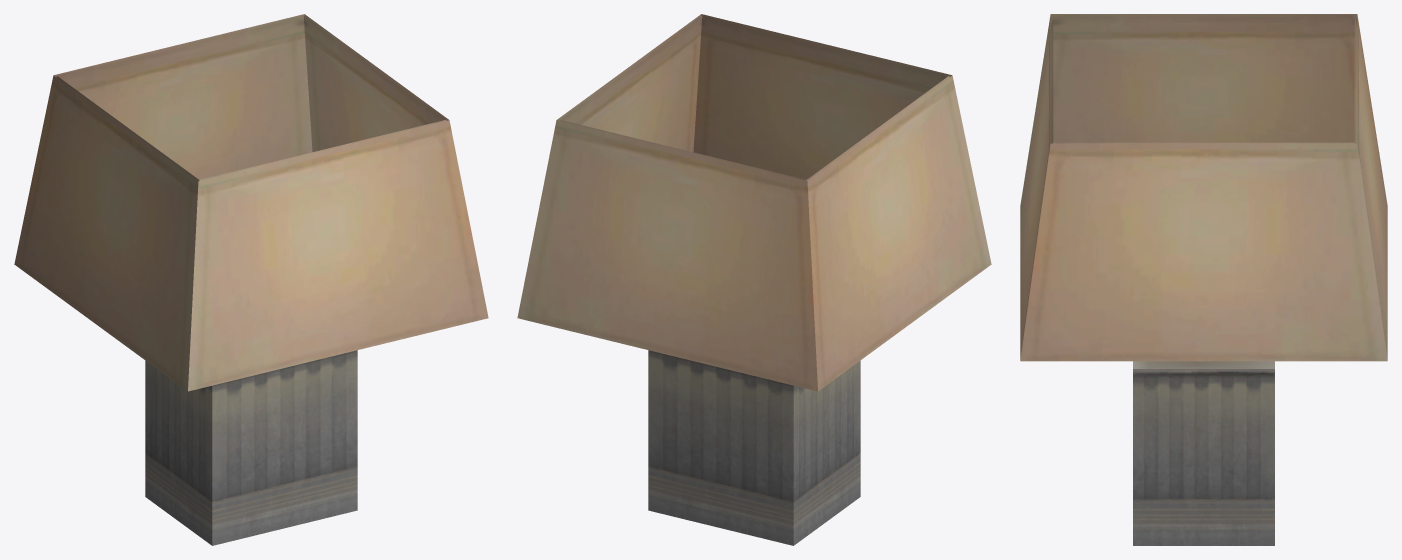
The model's file is furniture_lamp_table2_1_lod2.glb.
The picture shows the model from 3 angles, left to right: view 1: azimuth 30°, elevation 25°; view 2: azimuth 150°, elevation 25°; view 3: azimuth 270°, elevation 25°; orthographic projection. The views are drawn at different scales.
Visible parts, largest first — view 1: surf0; view 2: surf0; view 3: surf0.
Boxes of the visible parts, x1,y1,x2,y2 form: surf0: (14,14,488,545); surf0: (517,14,991,545); surf0: (1020,14,1387,545).
Size of the model in its own units: 16.32 by 21.06 by 16.32.
